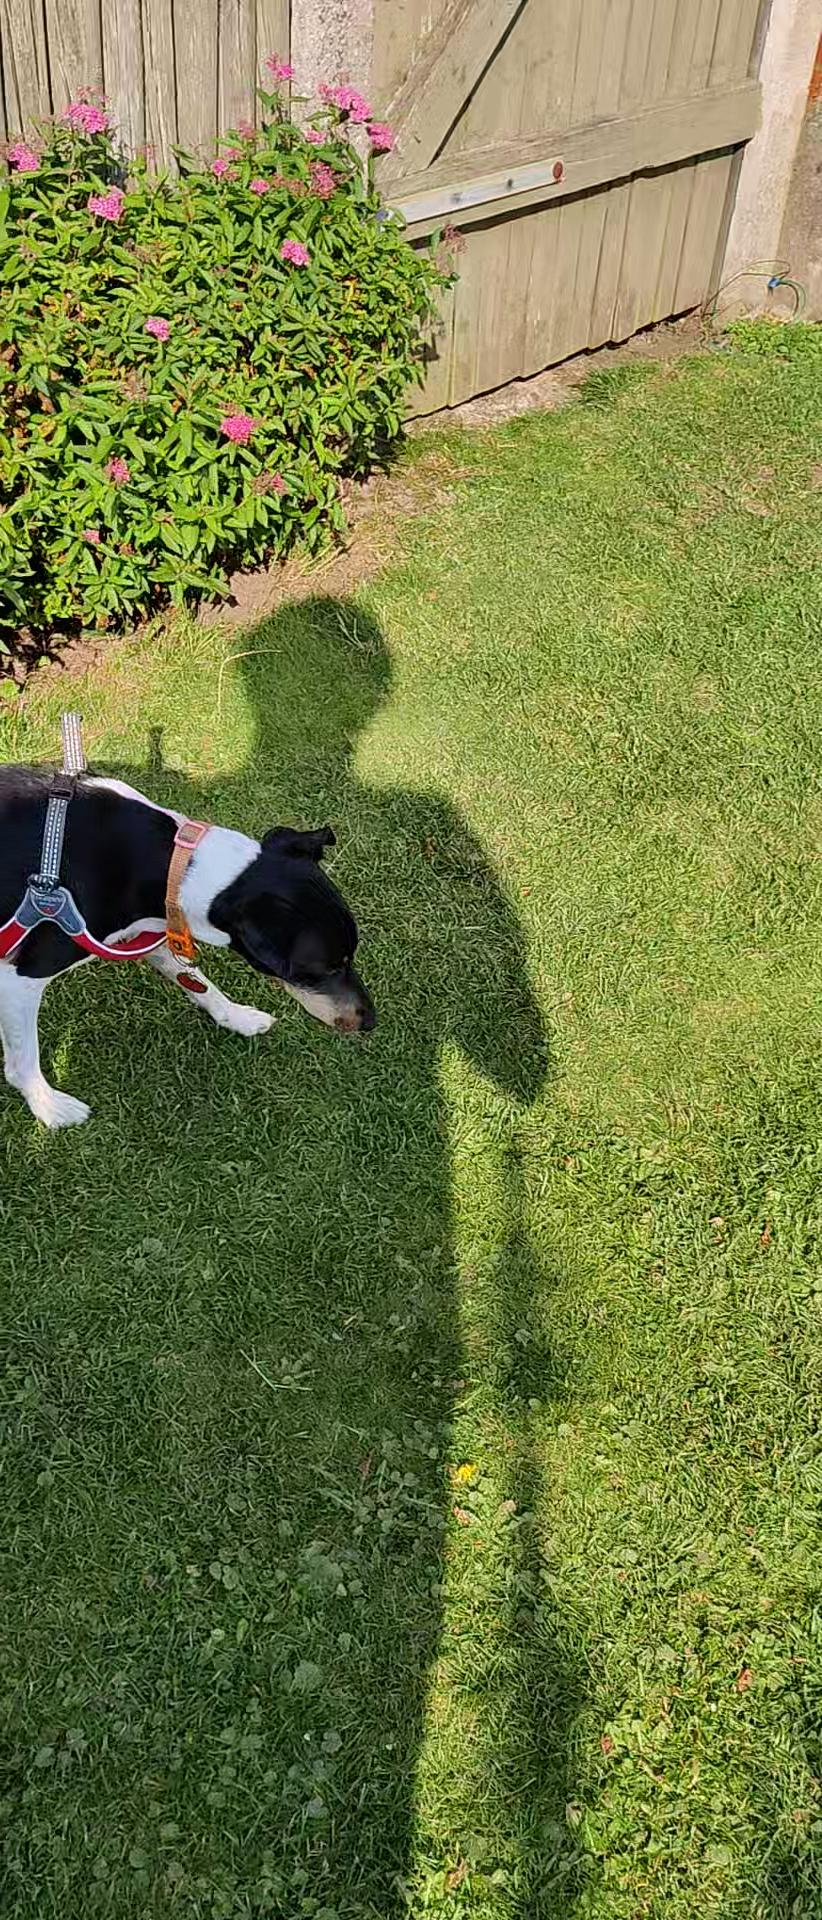Dog: (0, 752, 419, 1129)
